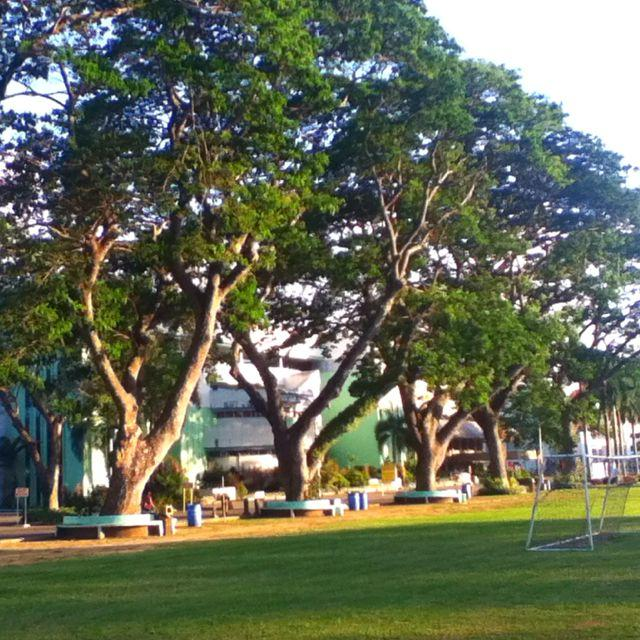Acacia: (3, 2, 459, 530), (177, 50, 566, 510), (362, 72, 632, 502), (367, 109, 610, 499)
